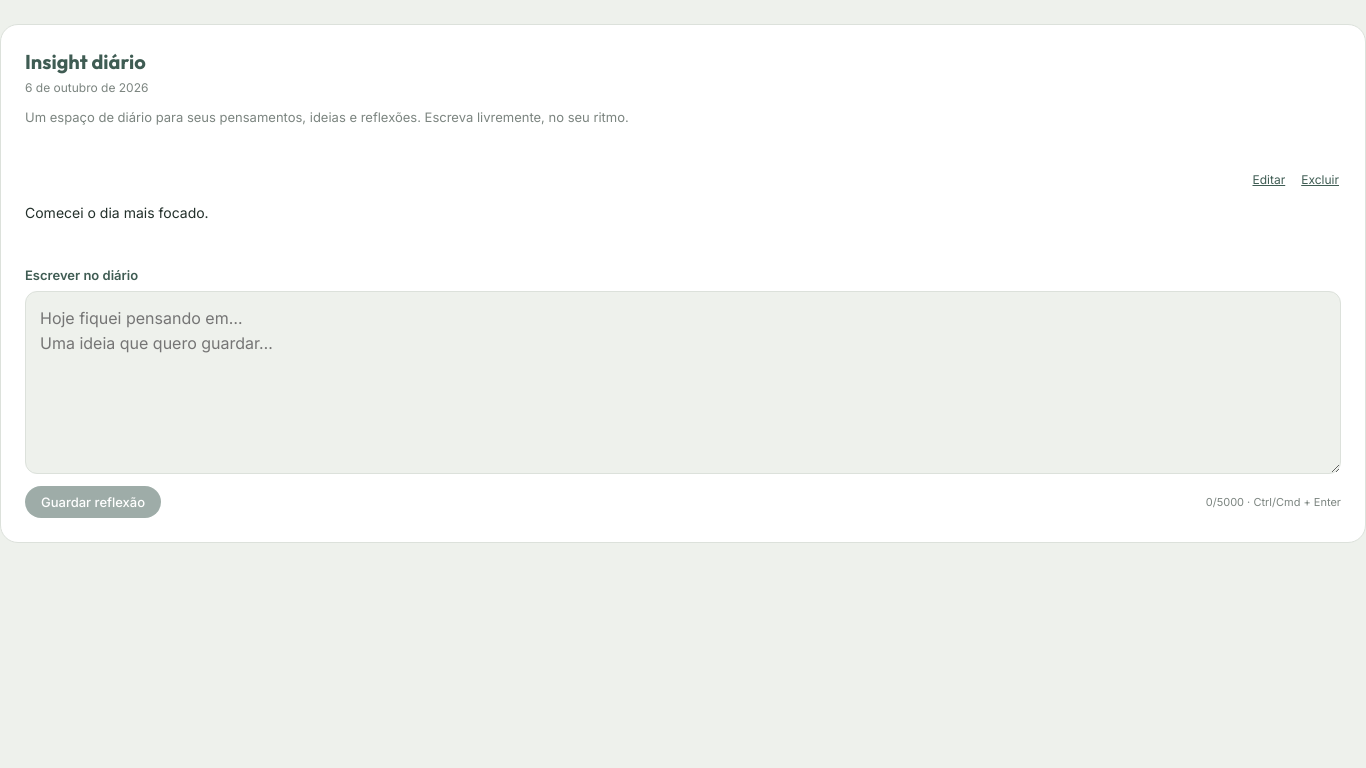
Test: Insight diário — interface › guarda reflexões como texto de diário, sem horários ou lista numerada
Type "Almocei bem." into the text box labelled "Escrever no diário" at (683, 382), box [25,291,1341,474]
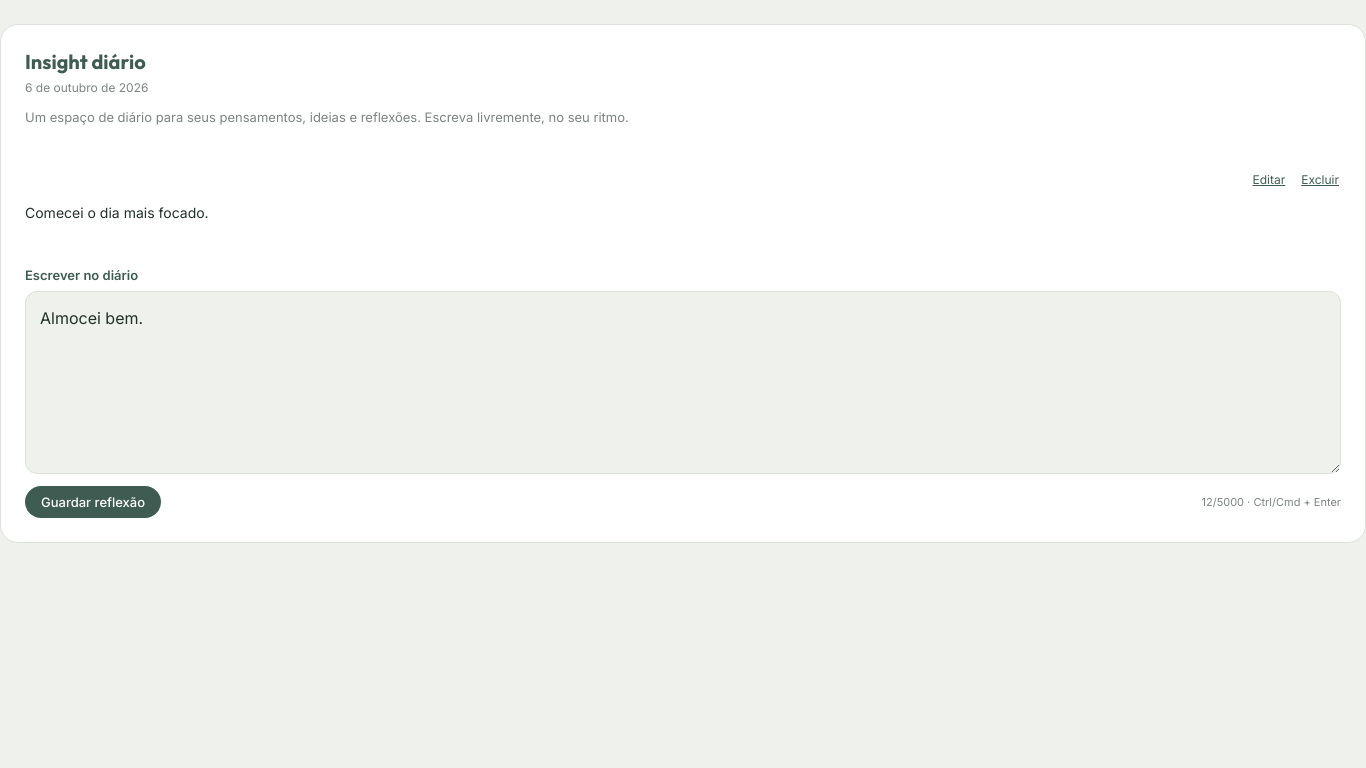
Click the button "Guardar reflexão" at (93, 502), box [25,486,161,518]
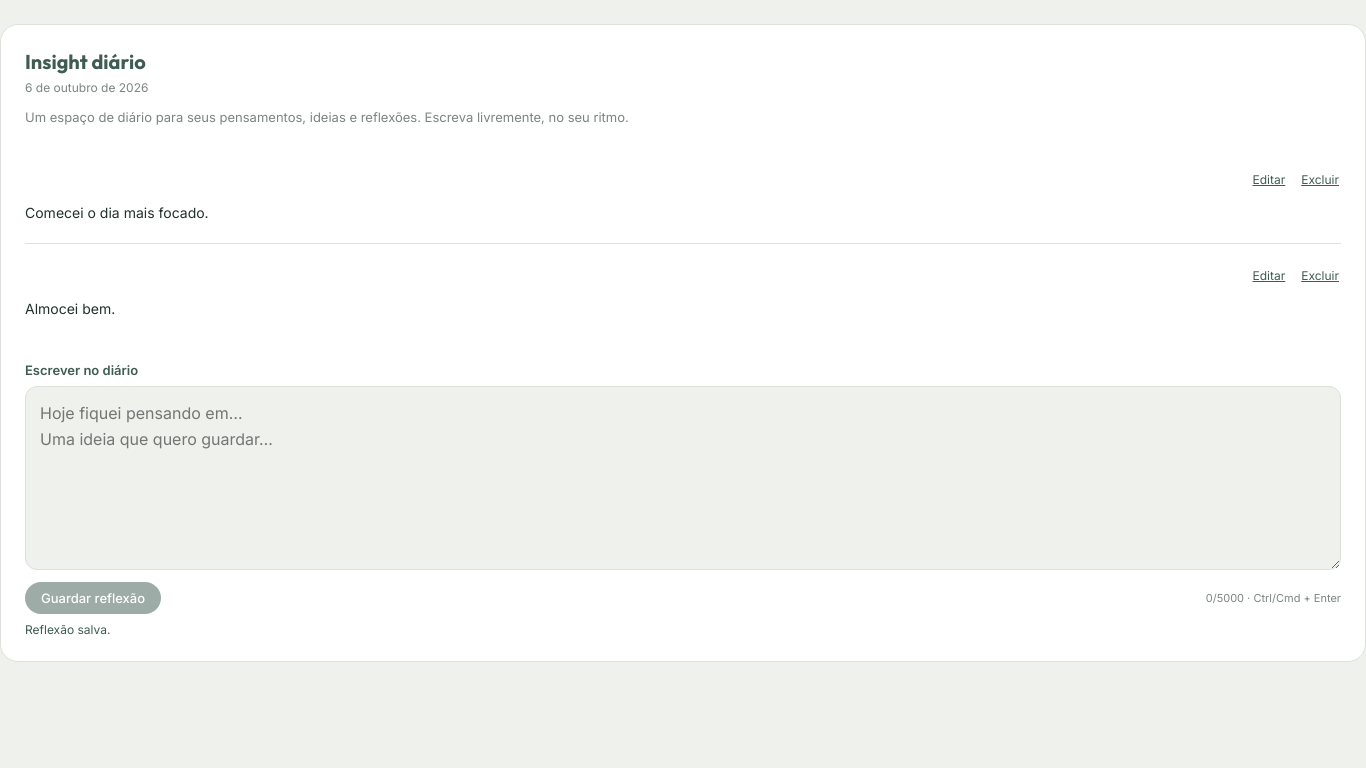
Expected: the text "Comecei o dia mais focado." is shown, [25,204,209,221]
Expected: the text "Almocei bem." is shown, [25,300,115,317]
Expected: the text box labelled "Escrever no diário" is empty, [25,386,1341,570]
